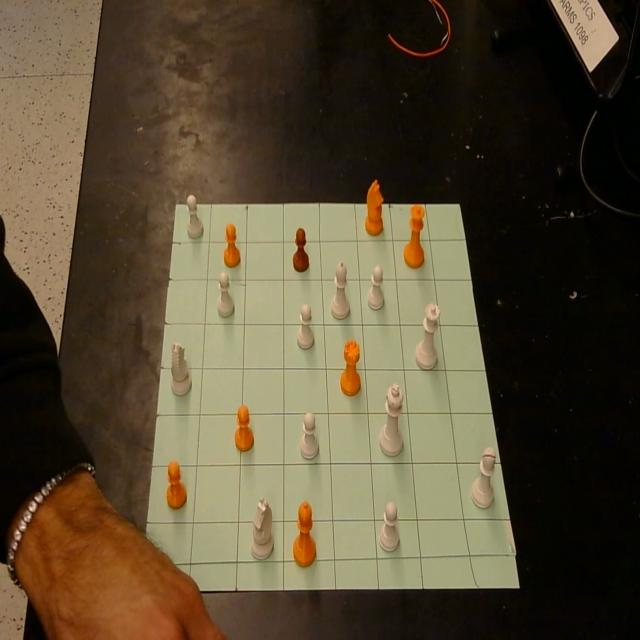orange_bishop: (293, 500, 316, 566)
orange_knight: (365, 179, 384, 236)
orange_pawn: (166, 460, 187, 509), (235, 404, 254, 451), (223, 222, 240, 268), (293, 228, 309, 272)
orange_queen: (404, 204, 425, 268)
orange_rook: (341, 338, 361, 395)
white_bishop: (331, 260, 350, 318)
white_king: (379, 383, 404, 456)
white_knight: (250, 496, 274, 560), (170, 341, 191, 396)
white_pawn: (470, 447, 496, 508), (379, 501, 400, 552), (299, 411, 319, 460), (186, 194, 204, 240), (217, 270, 234, 317), (367, 264, 384, 310), (297, 304, 314, 349)
white_queen: (414, 302, 440, 370)
